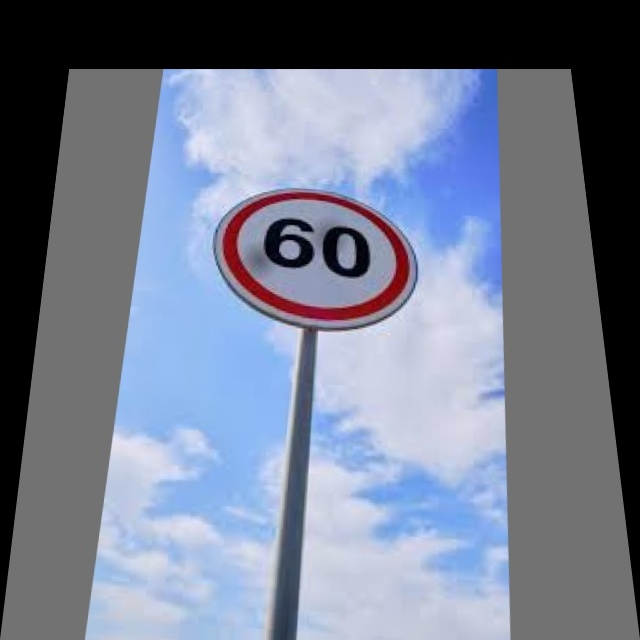Speed_Limit_60: (207, 179, 434, 334)
